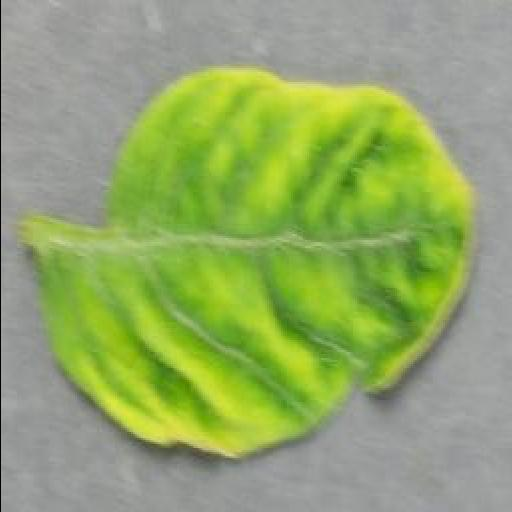disease_tomato: (34, 66, 480, 462)
